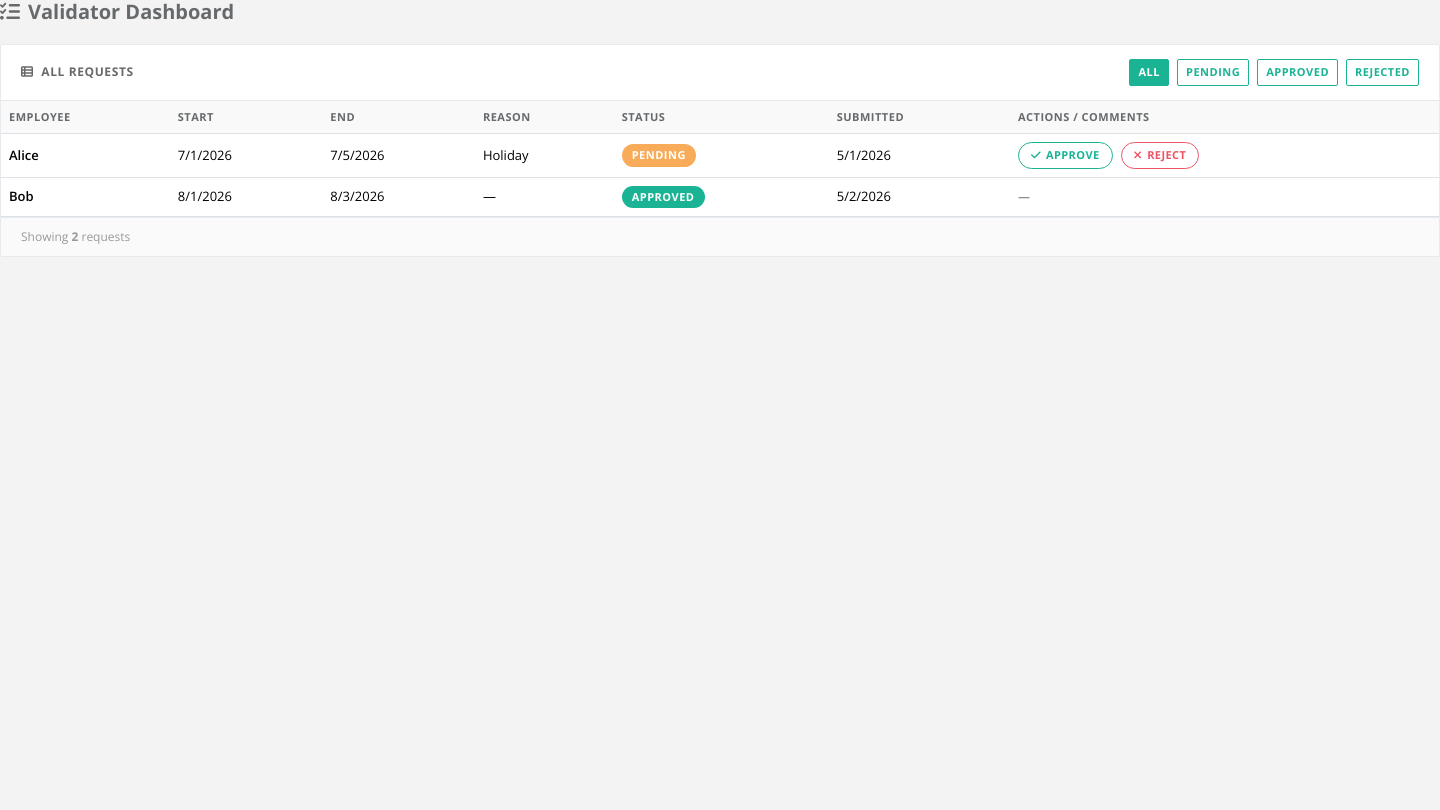
ValidatorView › shows error in modal when rejecting without a comment
The width and height of the screenshot is (1440, 810).
What coordinates should you click on to do the following:
click the button with class "btn-action-reject"
I would click on:
 (1160, 155)
Its box is [1120,142,1199,168].
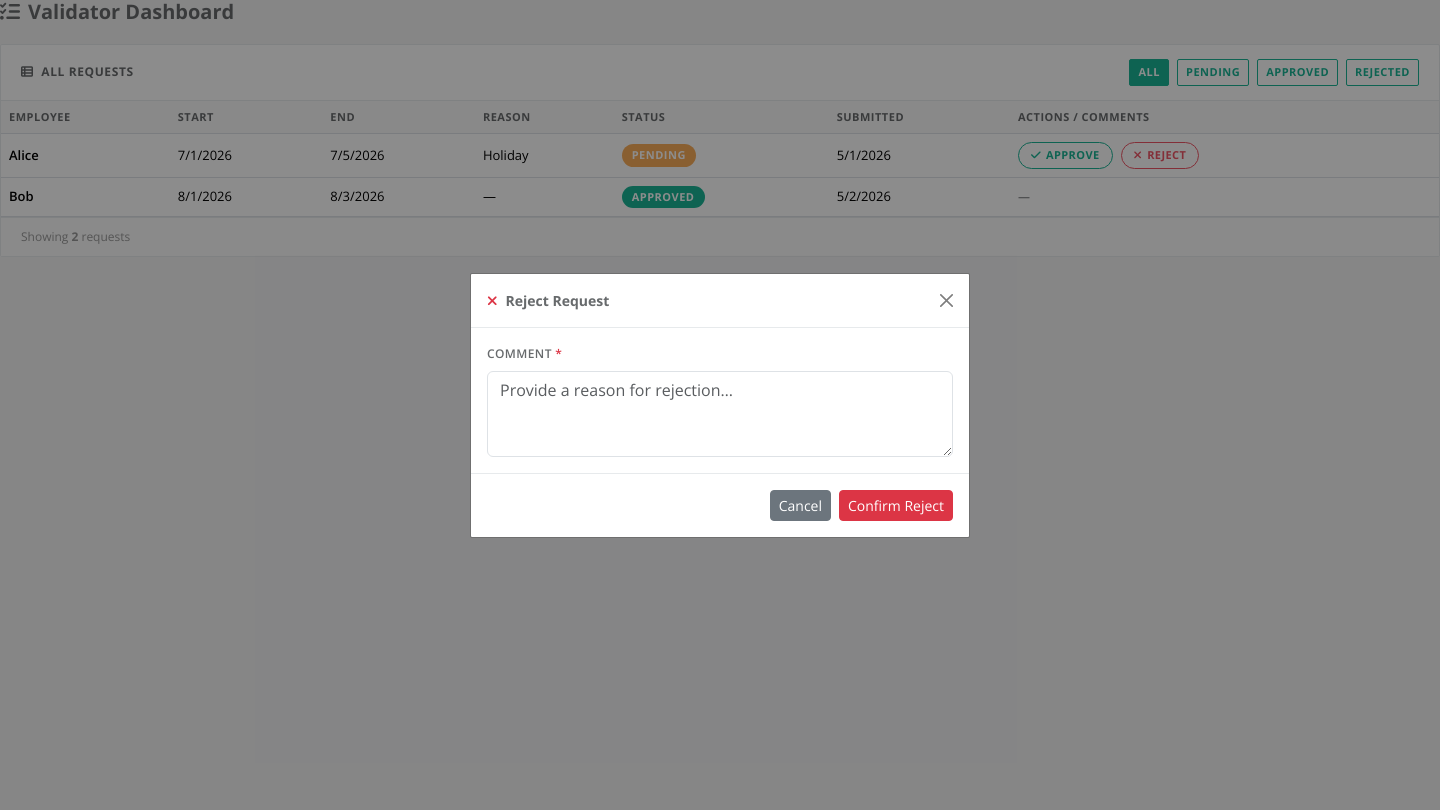
What coordinates should you click on to do the following:
click the button with class "btn-danger"
I would click on:
 (896, 505)
Its box is [839,490,953,520].
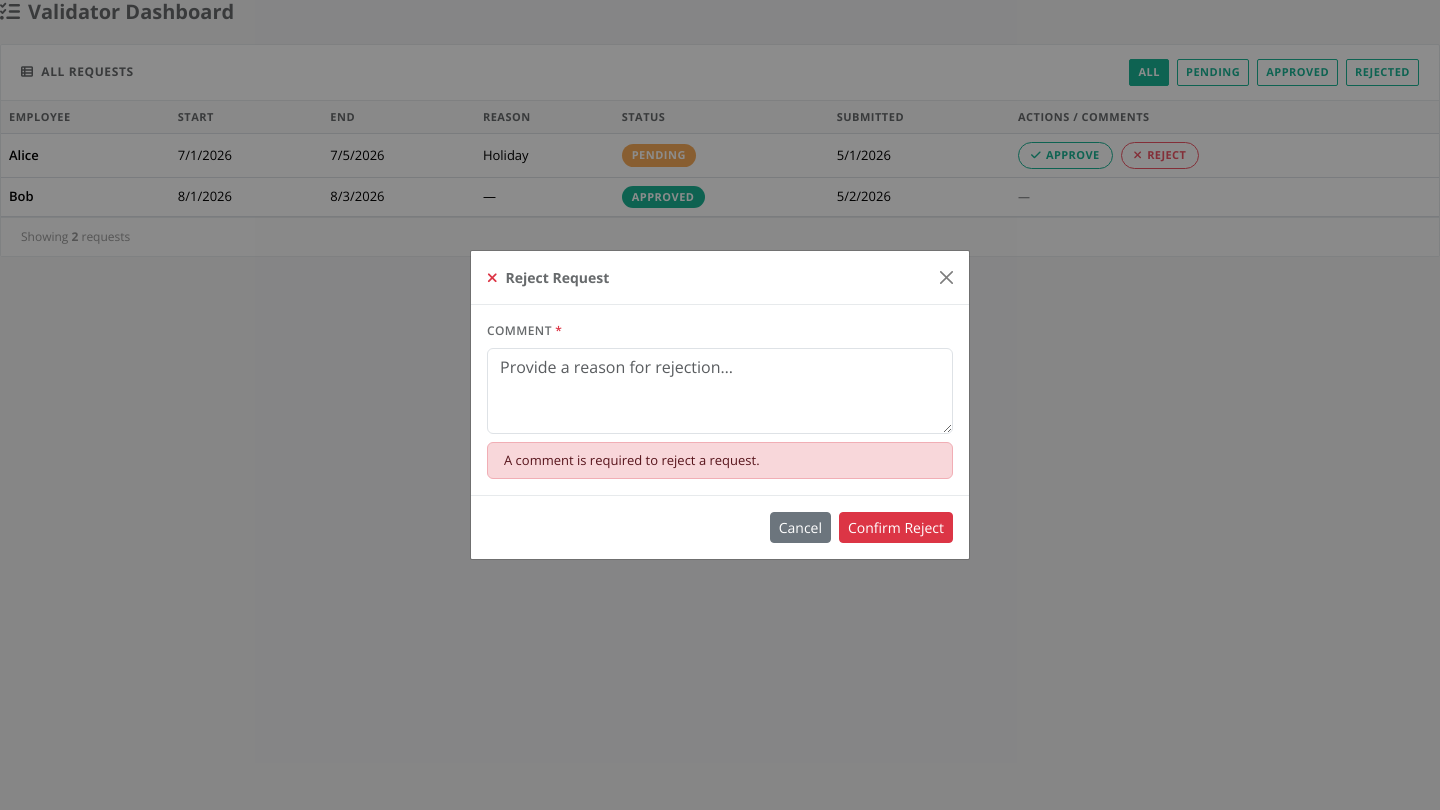
Check: the text "comment is required" is shown, box [504,451,760,469]
